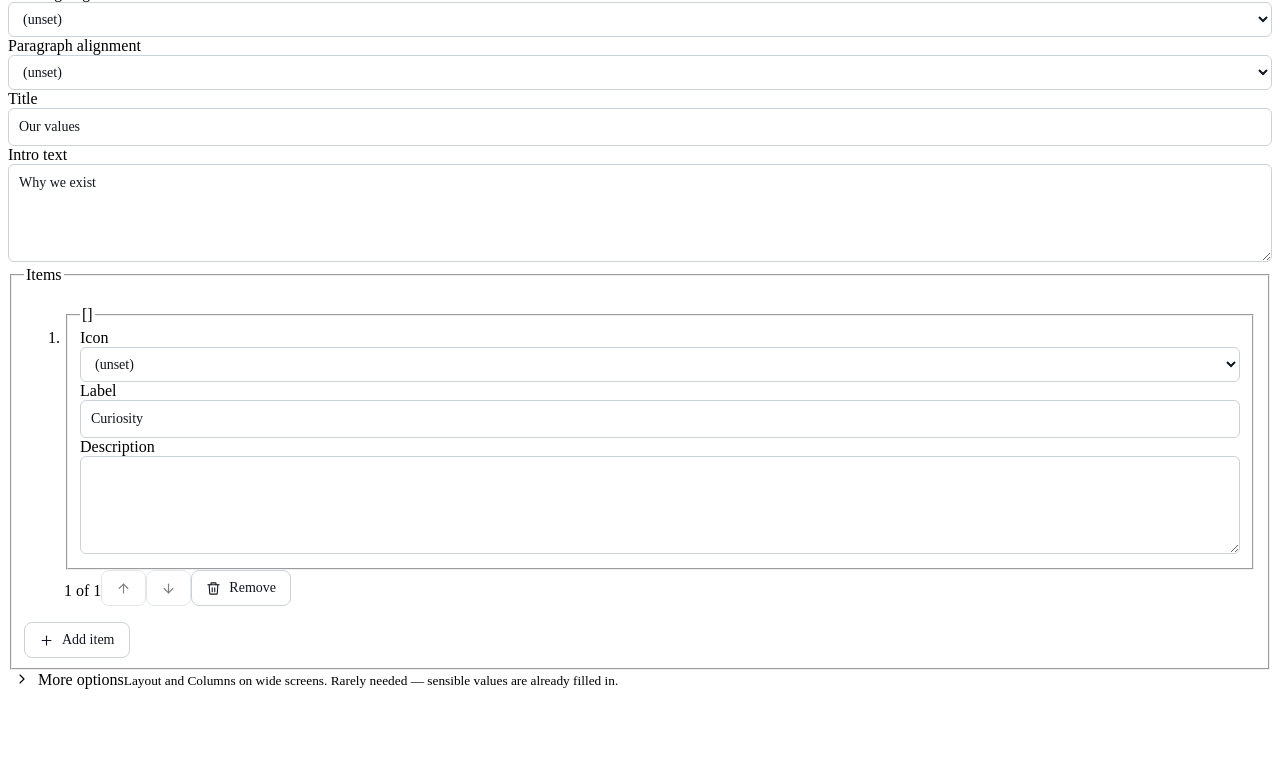
Test: BlockForm — More options section (ADR 0043, T16) › production metadata moves valueList layout knobs into More options
The width and height of the screenshot is (1280, 776).
Expected: the field labelled "Title" is shown, top-left (8, 108), bottom-right (1272, 146)
Click the button with test id "advanced-toggle".
click(316, 688)  # box top-left (8, 670), bottom-right (624, 706)
(page scrolled)
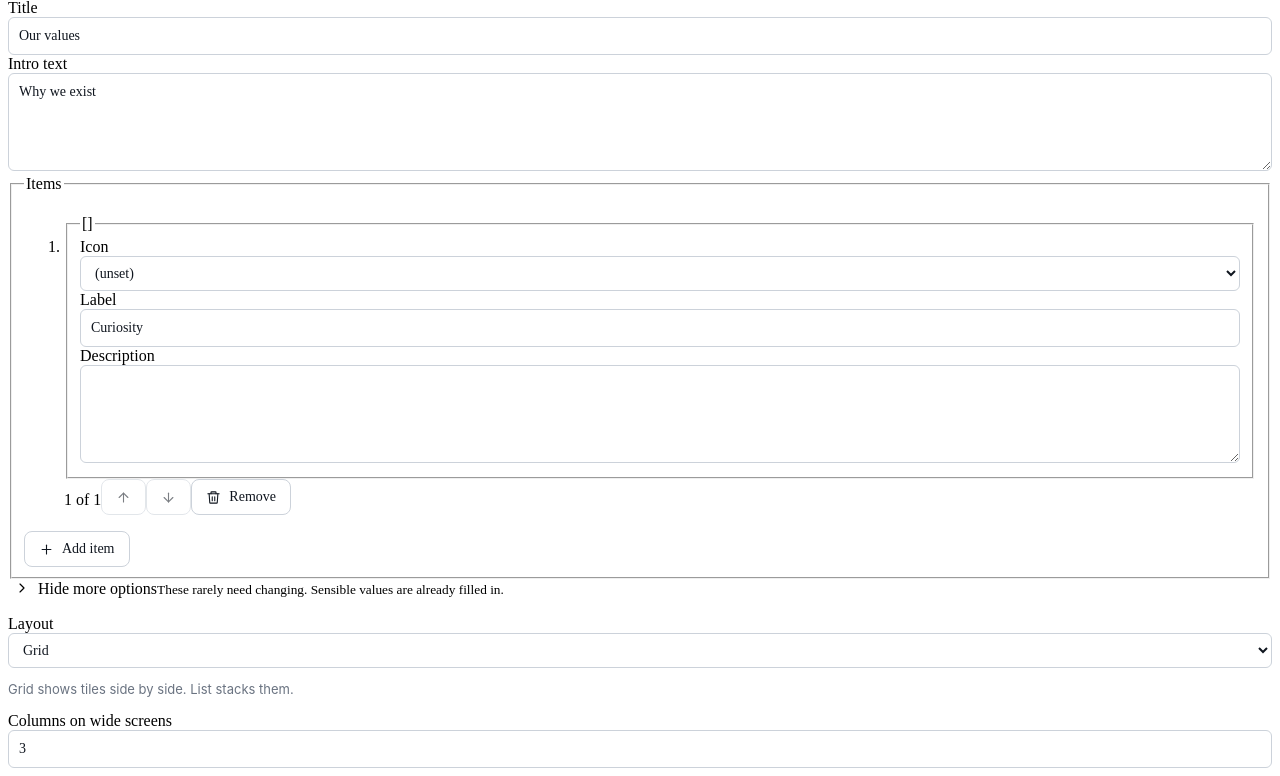
Result: the dropdown labelled "Layout Grid shows tiles side by side. List stacks them." is shown at top-left (8, 633), bottom-right (1272, 668)
Result: the number field labelled "Columns on wide screens" is shown at top-left (8, 730), bottom-right (1272, 768)
